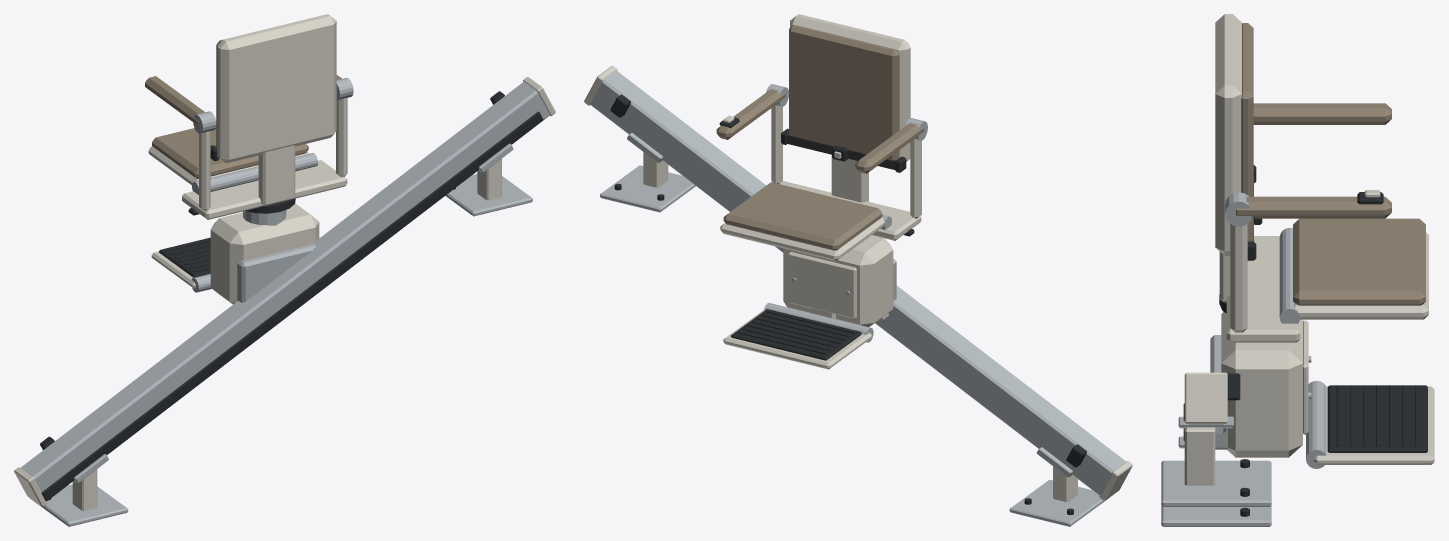
3 views of the same model, side by side, from view 1: azimuth 30°, elevation 25°; view 2: azimuth 150°, elevation 25°; view 3: azimuth 270°, elevation 25° (orthographic). The views are drawn at different scales.
Visible parts, largest first — view 1: Inclined main rail, Back shell, Lower guide channel, Carriage housing, Chair seat chassis, Fold seat cushion, Carriage rear yoke, Back support spine, Stair mount foot 0, Stair mount foot 1, Seat hinge, Arm pad -1 (+6 smaller); view 2: Inclined main rail, Back cushion, Fold seat cushion, Carriage housing, Carriage front service cover, Footrest tread, Back shell, Stair mount foot 1, Stair mount foot 0, Fold seat shell, Fold footrest plate, Back support spine (+8 smaller); view 3: Fold seat cushion, Carriage housing, Back shell, Footrest tread, Stair mount foot 1, Chair seat chassis, Arm pad 1, Arm pad -1, Back cushion, Rail end cap 1, Fold seat shell, Stair mount foot 0 (+10 smaller).
Part boxes in pixels (x1,y1,x2,y2): Inclined main rail: (20, 81, 549, 492); Back shell: (217, 14, 336, 163); Lower guide channel: (41, 111, 543, 501); Carriage housing: (210, 203, 319, 304); Chair seat chassis: (182, 160, 347, 219); Fold seat cushion: (152, 128, 308, 178); Carriage rear yoke: (237, 243, 316, 302); Back support spine: (258, 145, 295, 205); Stair mount foot 0: (30, 484, 128, 526); Stair mount foot 1: (445, 174, 532, 216); Seat hinge: (192, 153, 317, 194); Arm pad -1: (145, 76, 204, 125); Inclined main rail: (590, 70, 1126, 495); Back cushion: (789, 25, 899, 160); Fold seat cushion: (723, 182, 882, 250); Carriage housing: (783, 235, 893, 326); Carriage front service cover: (788, 252, 856, 318); Footrest tread: (731, 309, 861, 360); Back shell: (790, 14, 910, 161); Stair mount foot 1: (600, 165, 695, 212); Stair mount foot 0: (1009, 479, 1108, 526); Fold seat shell: (720, 217, 884, 260); Fold footrest plate: (723, 310, 871, 369); Back support spine: (831, 155, 868, 202); Fold seat cushion: (1293, 218, 1425, 305); Carriage housing: (1221, 312, 1302, 457); Back shell: (1215, 14, 1241, 255); Footrest tread: (1327, 385, 1427, 452); Stair mount foot 1: (1161, 460, 1271, 506); Chair seat chassis: (1226, 236, 1300, 342); Arm pad 1: (1236, 196, 1391, 218); Arm pad -1: (1253, 103, 1391, 124); Back cushion: (1241, 23, 1253, 241); Rail end cap 1: (1184, 372, 1227, 423); Fold seat shell: (1294, 232, 1428, 319); Stair mount foot 0: (1161, 505, 1271, 526).
Bounding box in the file's own units: 2.09 × 1.61 × 0.669.
